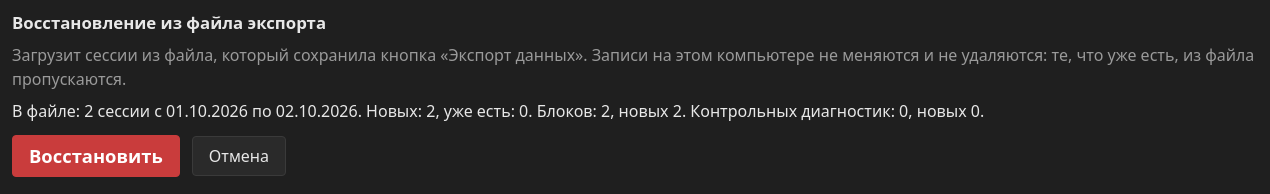
it: RestoreSection › a failed backup shows its reason and writes nothing
Earlier steps of the test are not shown.
What coordinates should you click on to do the following:
click the button "Восстановить"
I would click on:
 (96, 156)
Its box is [12,135,180,177].
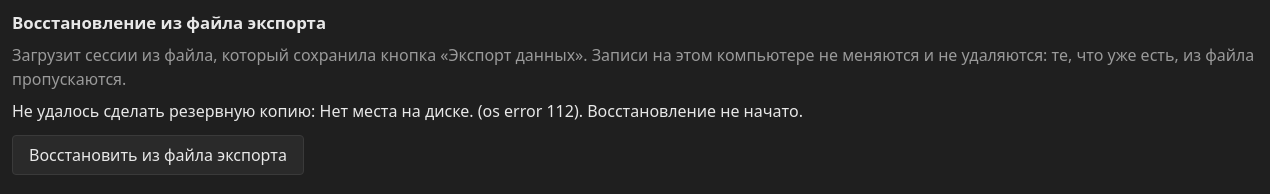
Result: the message shows "Не удалось сделать резервную копию: Нет места на диске. (os error 112). Восстановление не начато." at [12,100,803,122]
